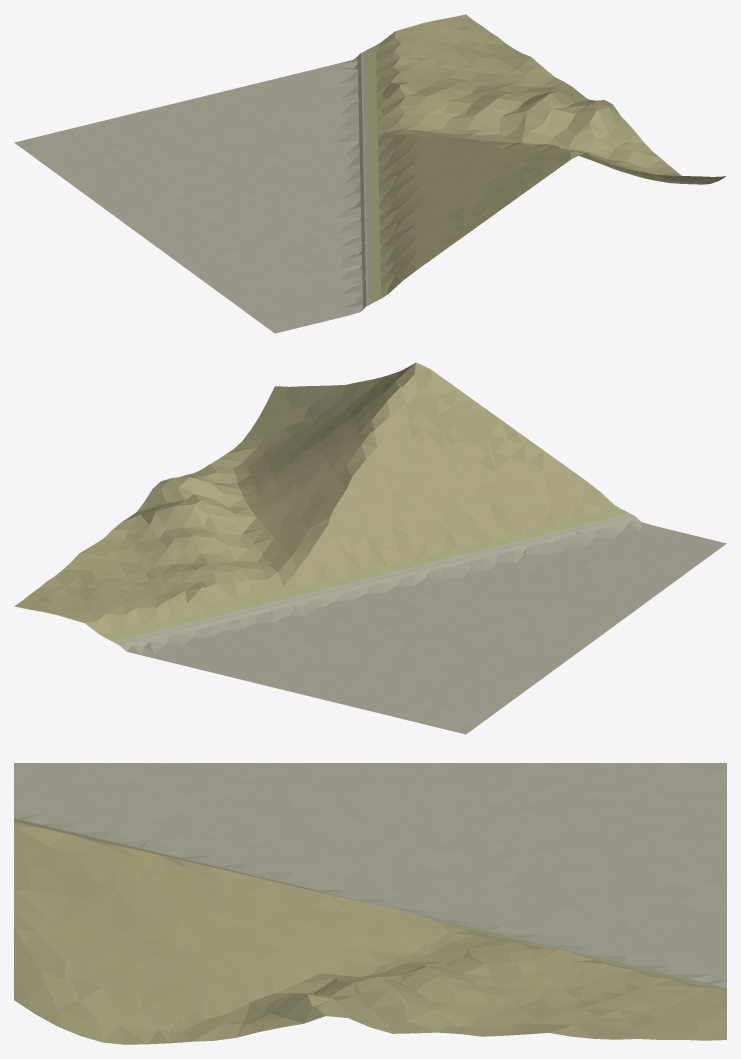
File: Ground_-2_2.glb
The picture shows the model from 3 angles, top to bottom: view 1: azimuth 30°, elevation 25°; view 2: azimuth 150°, elevation 25°; view 3: azimuth 270°, elevation 25°; orthographic projection. The views are drawn at different scales.
Parts seen in each view (by area): view 1: Ground_-2_2; view 2: Ground_-2_2; view 3: Ground_-2_2.
Boxes of the visible parts, x1,y1,x2,y2 form: Ground_-2_2: [14, 14, 726, 333]; Ground_-2_2: [14, 362, 726, 734]; Ground_-2_2: [14, 763, 726, 1044].
Bounding box in the file's own units: 768 × 171 × 768.
